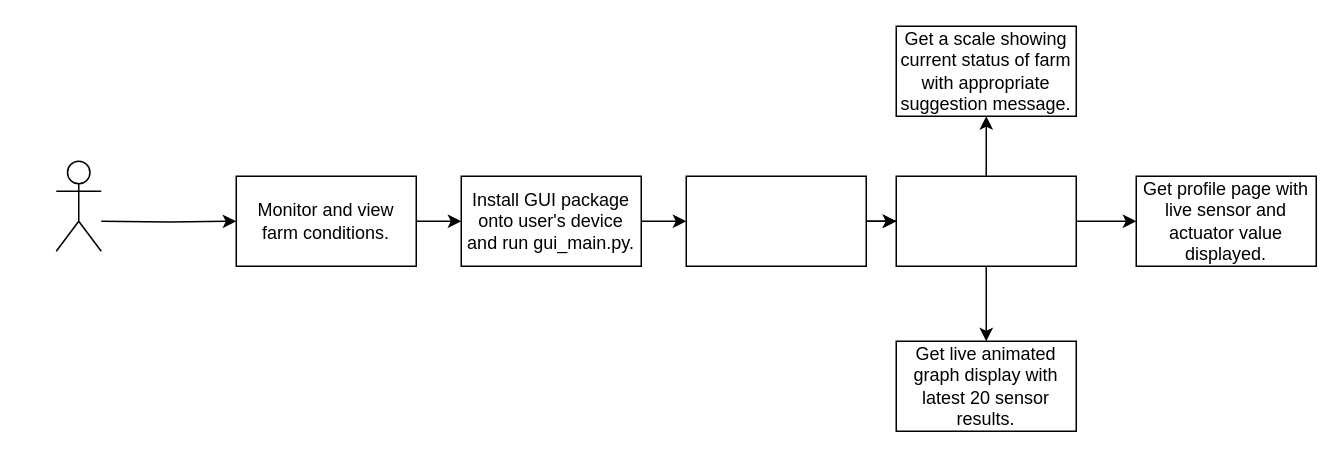
Image size: 1343x458. Some labels were removed from this diagram. Each missing label, with the centre of its shape:
General User: point 78,205
Get menu pop-up.: point 775,220
Select profile.: point 985,220
